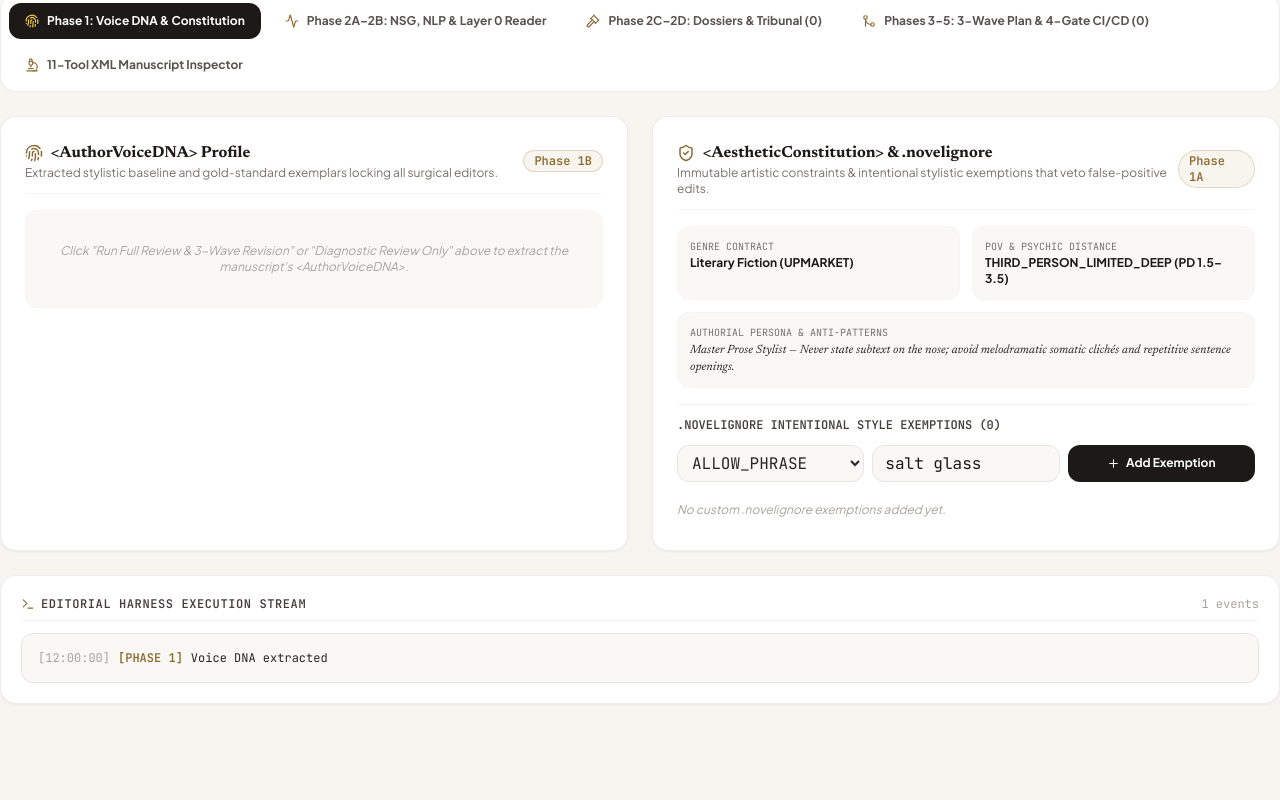
Phase 5E: Dashboard, Directive, and Editorial views › renders EditorialView 5-tab suite, .novelignore rule manager, and XML inspector tool runner
Later steps or results of the test are not shown.
(page scrolled)
Click the button "Add Exemption".
click(1161, 463)  # box [1068,444,1255,482]
Click the button "11-Tool XML Manuscript Inspector".
click(134, 64)  # box [9,46,259,82]
(page scrolled)
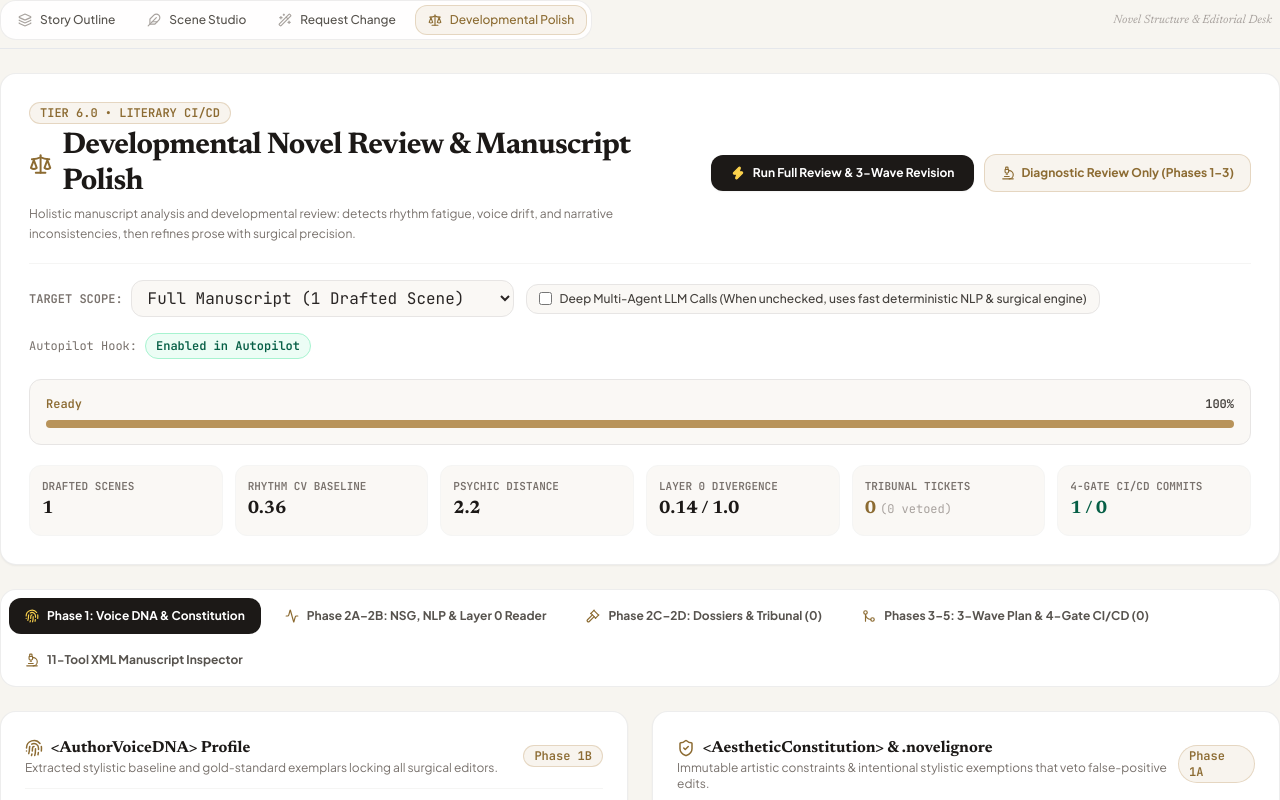
Click the button "Diagnostic Review Only (Phases 1–3)".
click(1118, 172)  # box [984,154,1251,192]
(page scrolled)
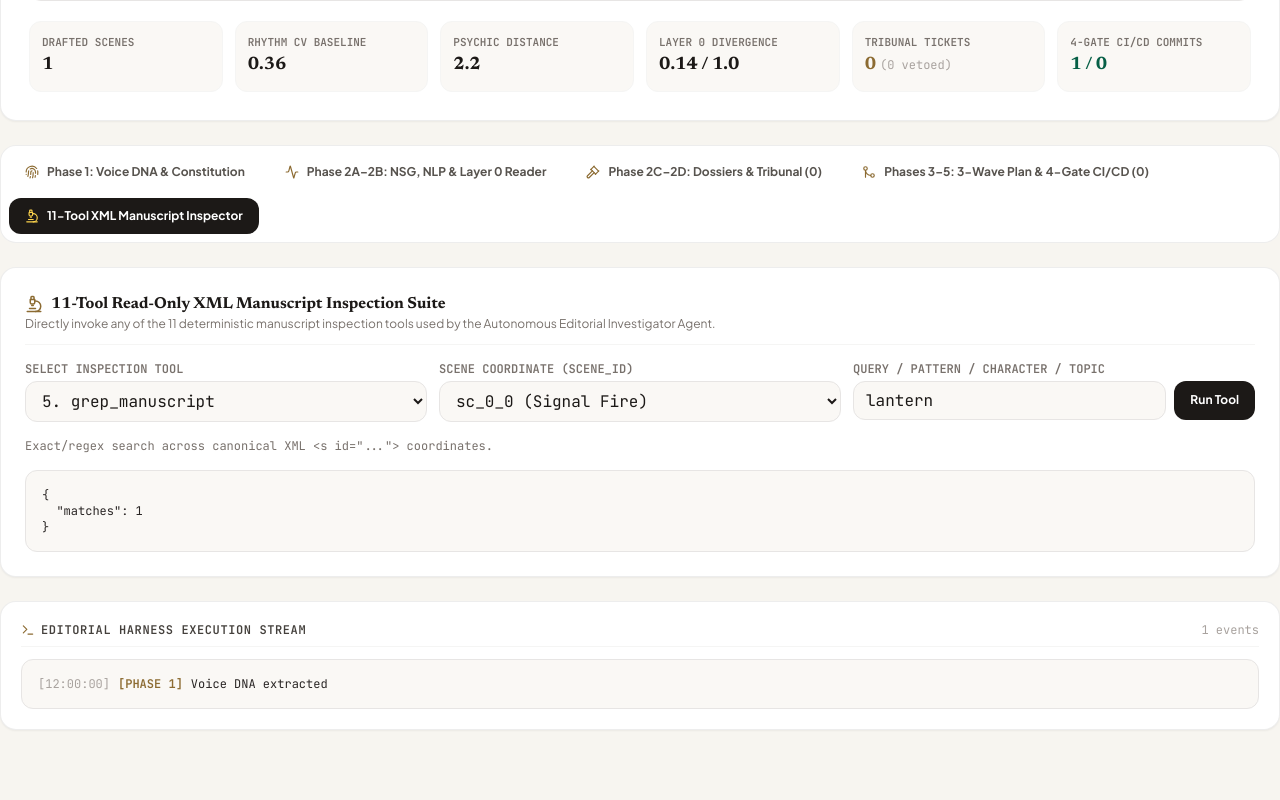
Now the text "\"matches\": 1" is shown, box [42,486,143,534]
